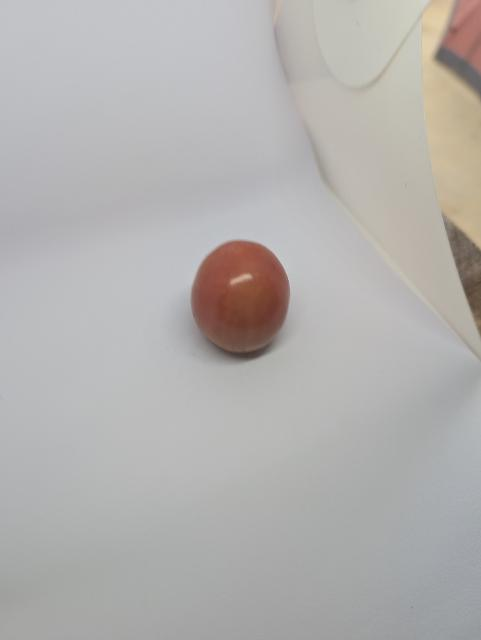red: (187, 231, 298, 359)
